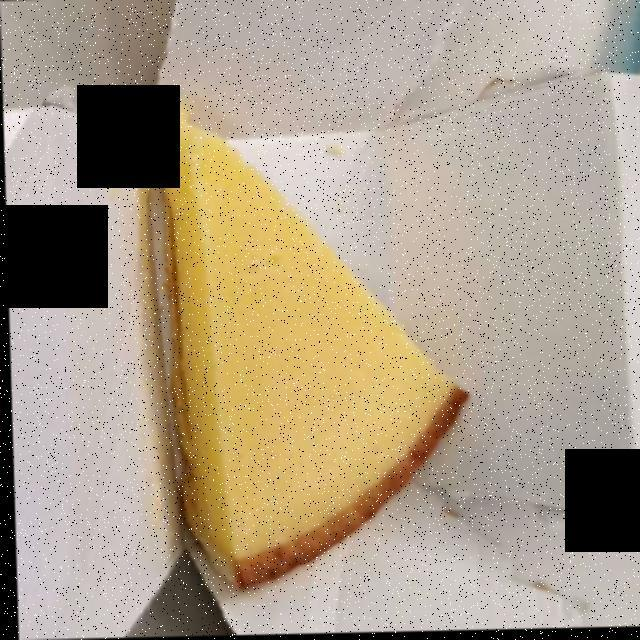pie: (159, 112, 452, 584)
